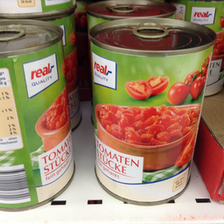tomato_sauce: (89, 16, 217, 206), (1, 18, 76, 212)
